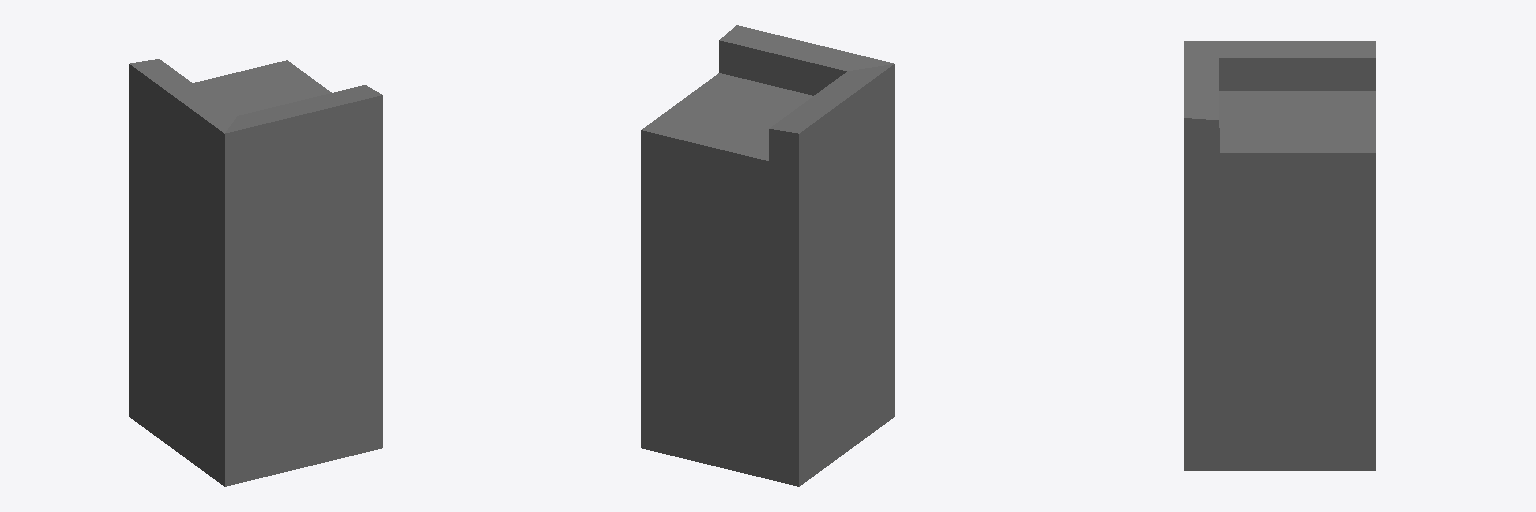
File: BG_ANGLE_MAISON.obj
3 views of the same model, side by side, from view 1: azimuth 30°, elevation 25°; view 2: azimuth 150°, elevation 25°; view 3: azimuth 270°, elevation 25° (orthographic).
Parts seen in each view (by area): view 1: Angle_Maison; view 2: Angle_Maison; view 3: Angle_Maison.
Part boxes in pixels (x1,y1,x2,y2): Angle_Maison: (129,59,382,486); Angle_Maison: (641,25,894,486); Angle_Maison: (1184,41,1375,470).
Bounding box in the file's own units: 176 × 375 × 184.